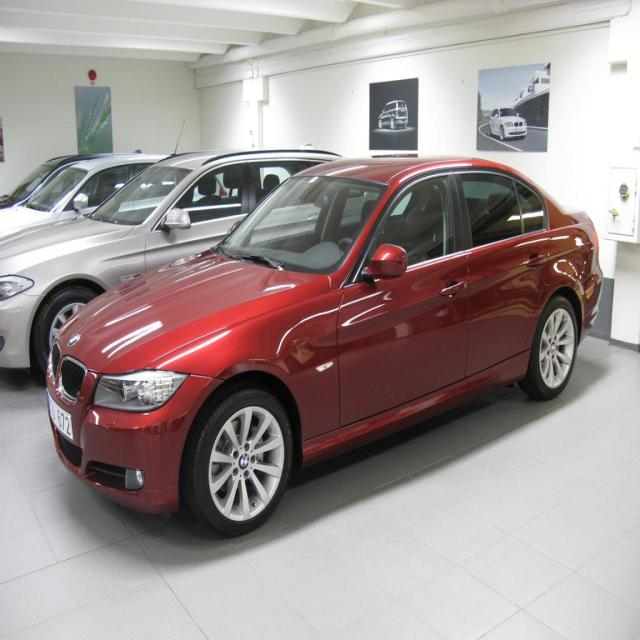car: (489, 105, 530, 138), (377, 97, 406, 126)
